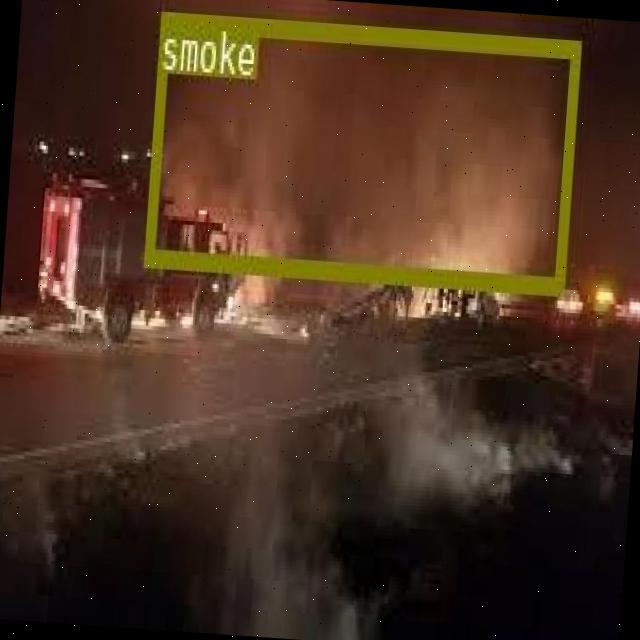smoke: (142, 8, 580, 291)
